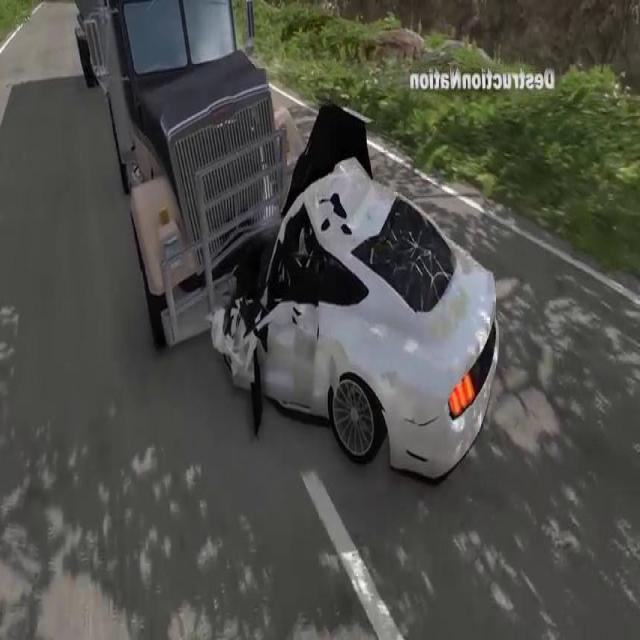accident: (68, 0, 508, 488)
